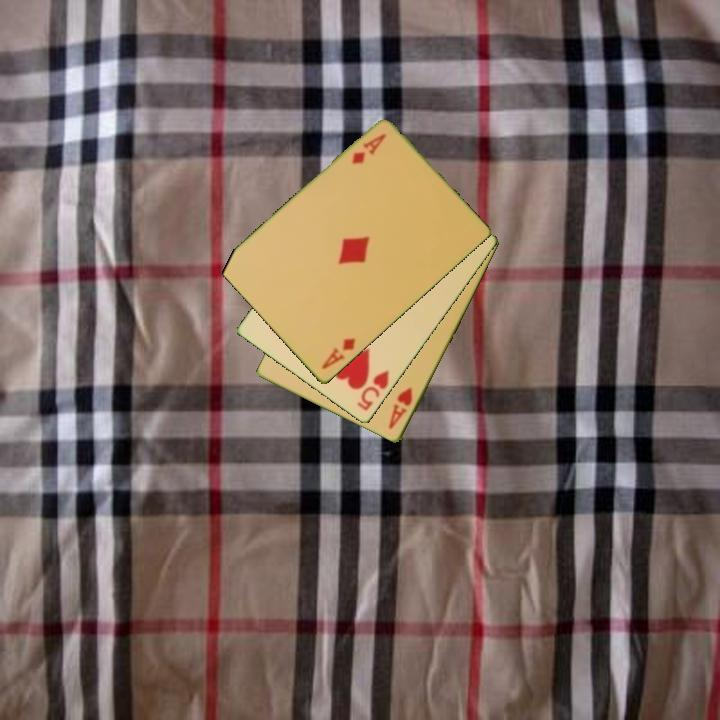5h: (353, 367, 392, 414)
Ad: (318, 335, 358, 373), (348, 130, 389, 167)
Ah: (385, 384, 416, 432)
